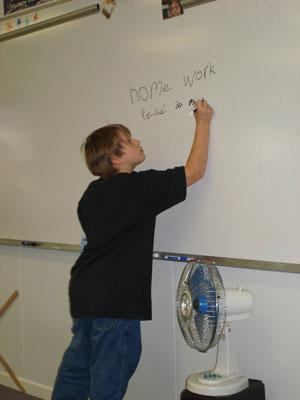person: (53, 100, 212, 400)
